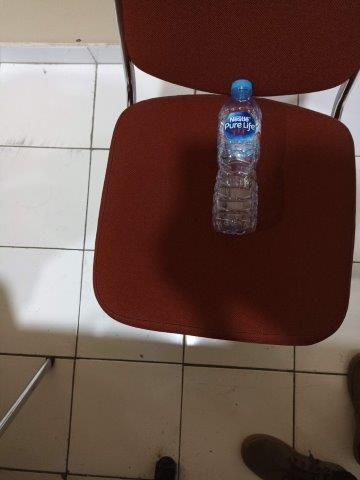botolplastik: (210, 79, 258, 236)
